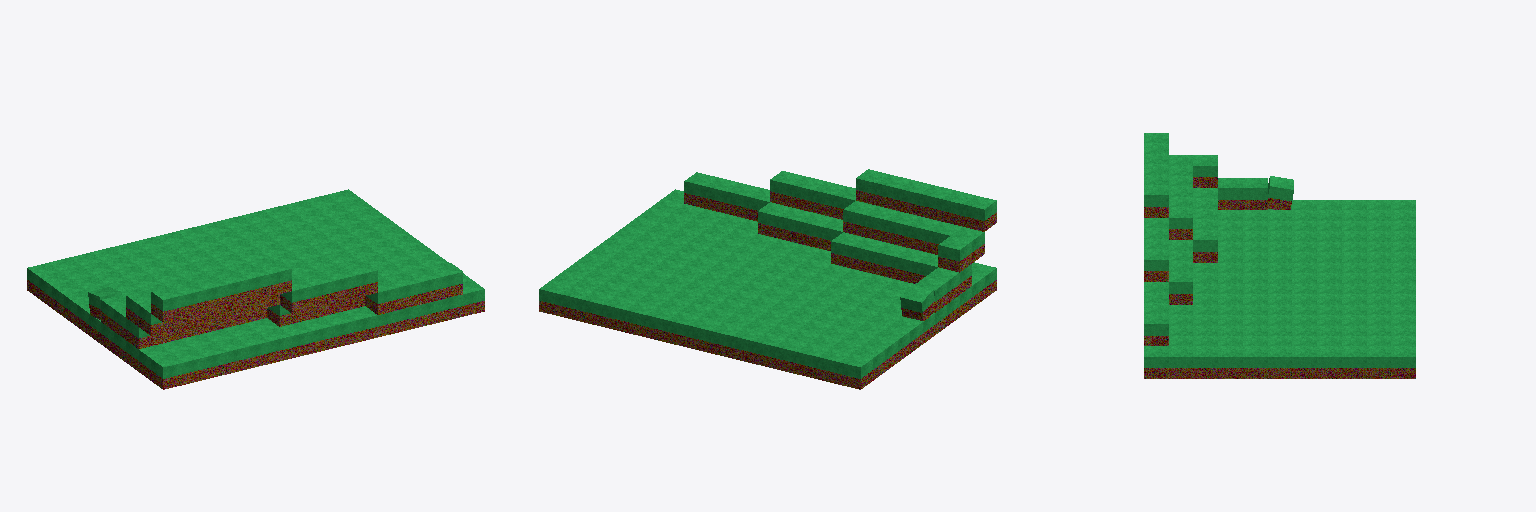
3 renders of one model, left to right at view 1: azimuth 30°, elevation 25°; view 2: azimuth 150°, elevation 25°; view 3: azimuth 270°, elevation 25°, orthographic.
Parts seen in each view (by area): view 1: 立方体.033; view 2: 立方体.033; view 3: 立方体.033.
Boxes of the visible parts, box(x1,y1,x2,y2) form: 立方体.033: box(27, 189, 484, 389); 立方体.033: box(539, 169, 996, 389); 立方体.033: box(1144, 133, 1415, 378).
Size of the model in its own units: 15 by 4 by 11.
Materials: 1 (1 with a texture image).